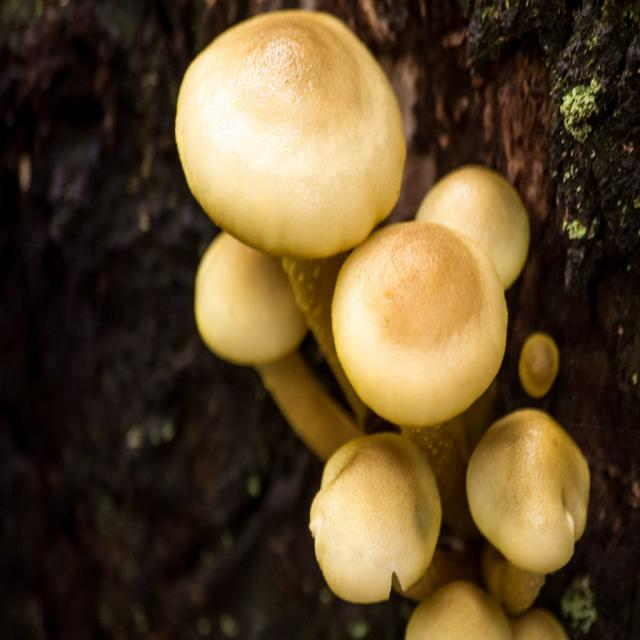Mushroom: (173, 10, 592, 640), (465, 410, 592, 618)
